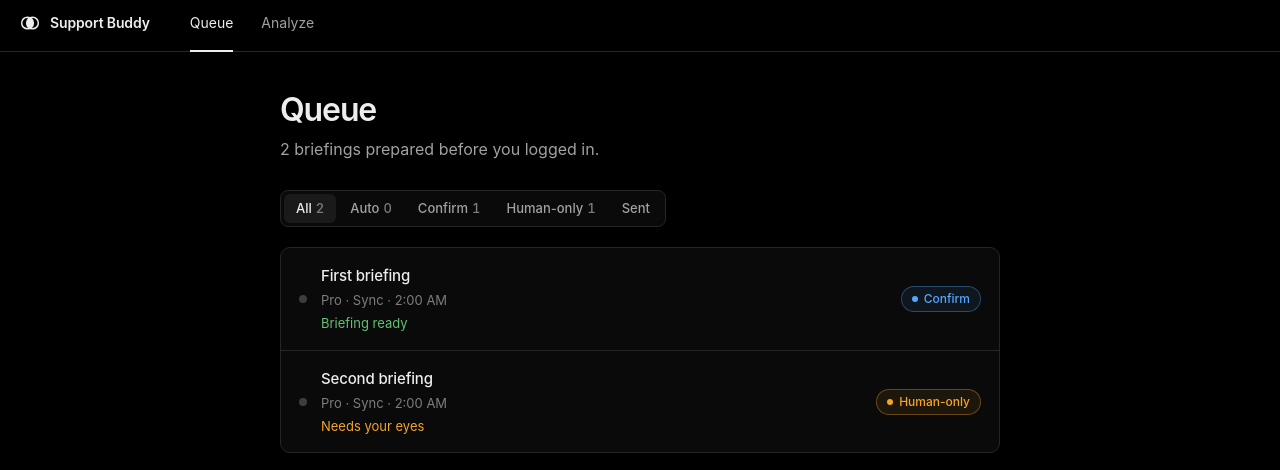
Test: Queue filters and the Sent tab › loads sent briefings only when the Sent tab is opened
Check: the heading "First briefing" is shown, box [321,266,410,285]
What coordinates should you click on to do the following:
click the tab "Sent"
I would click on:
 (636, 209)
Its box is [610,194,662,223].
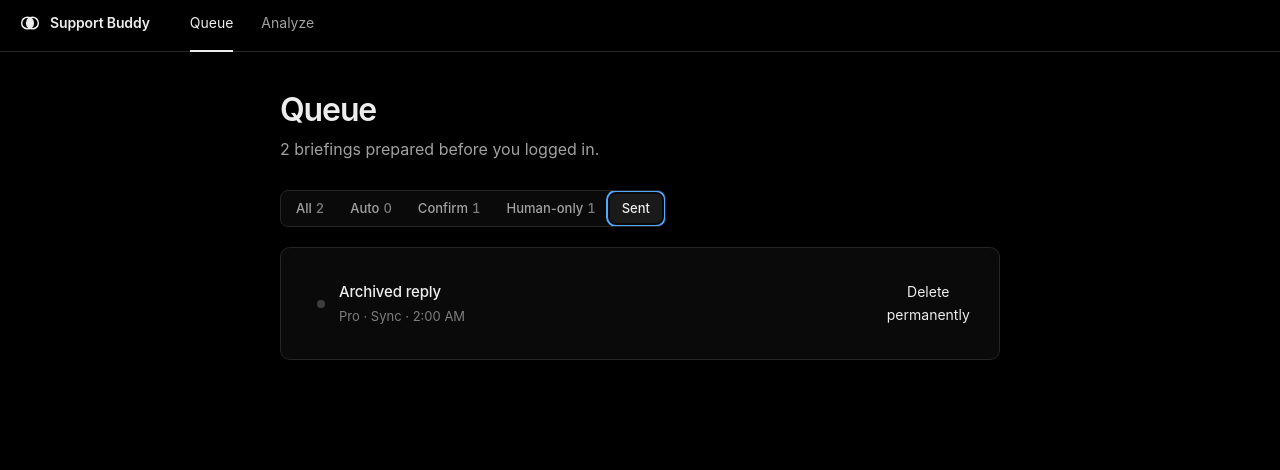
Check: the heading "Archived reply" is shown, box [339,282,441,301]
Check: the button "First briefing" is gone
